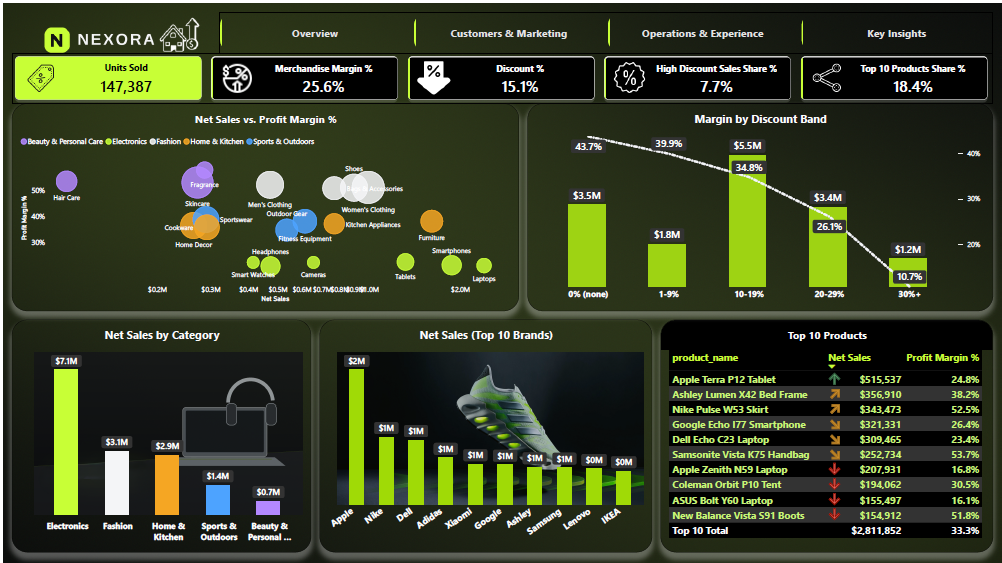

Layout of this report page (visuals, bound fields, positions):
{"tool":"powerbi","page":{"name":"Products & Brands","canvas":[1920,1080],"ordinal":2},"visuals":[{"type":"pageNavigator","box":[416,16,1488,80],"z":0},{"type":"actionButton","title":"D_Home Button","box":[16,16,368,80],"z":1000},{"type":"cardVisual","fields":{"Data":["ALL Measures.Units Sold","ALL Measures.Merchandise Margin %","ALL Measures.Discount %","ALL Measures.High Discount Sales Share %","ALL Measures.Top 10 Products Share %"]},"box":[16,96,1888,96],"z":2000},{"type":"lineStackedColumnComboChart","title":"\tNet Sales by Category ","fields":{"Category":["ProductCatalog.product_category"],"Y":["ALL Measures.Net Sales"]},"box":[16,608,576,448],"z":3000},{"type":"tableEx","title":"Top 10 Products","fields":{"Values":["ProductCatalog.product_name","ALL Measures.Net Sales","ALL Measures.Profit Margin %"]},"box":[1264,608,640,448],"z":4000},{"type":"columnChart","title":"Net Sales (Top 10 Brands)","fields":{"Category":["ProductCatalog.brand"],"Y":["ALL Measures.Net Sales"]},"box":[608,608,640,448],"z":5000},{"type":"lineStackedColumnComboChart","title":"\tMargin by Discount Band","fields":{"Category":["OrderItems.Discount Band"],"Y":["ALL Measures.Net Sales"],"Y2":["ALL Measures.Profit Margin %"]},"box":[1008,192,896,400],"z":6000},{"type":"scatterChart","title":"Net Sales vs. Profit Margin %","fields":{"Category":["ProductCatalog.product_subcategory"],"Series":["ProductCatalog.product_category"],"Size":["ALL Measures.Units Sold"],"X":["ALL Measures.Net Sales"],"Y":["ALL Measures.Profit Margin %"]},"box":[16,192,976,400],"z":7000}]}

Visuals, with their boxes in screenshot pixels (x1, y1, x2, y2), scaled from the page's 1920x1080 canvas onto the 1002x563 screenshot:
pageNavigator: (217,8,994,50)
"D_Home Button" actionButton: (8,8,200,50)
cardVisual - ALL Measures.Units Sold x ALL Measures.Merchandise Margin %: (8,50,994,100)
"	Net Sales by Category " lineStackedColumnComboChart: (8,317,309,550)
"Top 10 Products" tableEx: (660,317,994,550)
"Net Sales (Top 10 Brands)" columnChart: (317,317,651,550)
"	Margin by Discount Band" lineStackedColumnComboChart: (526,100,994,309)
"Net Sales vs. Profit Margin %" scatterChart: (8,100,518,309)
